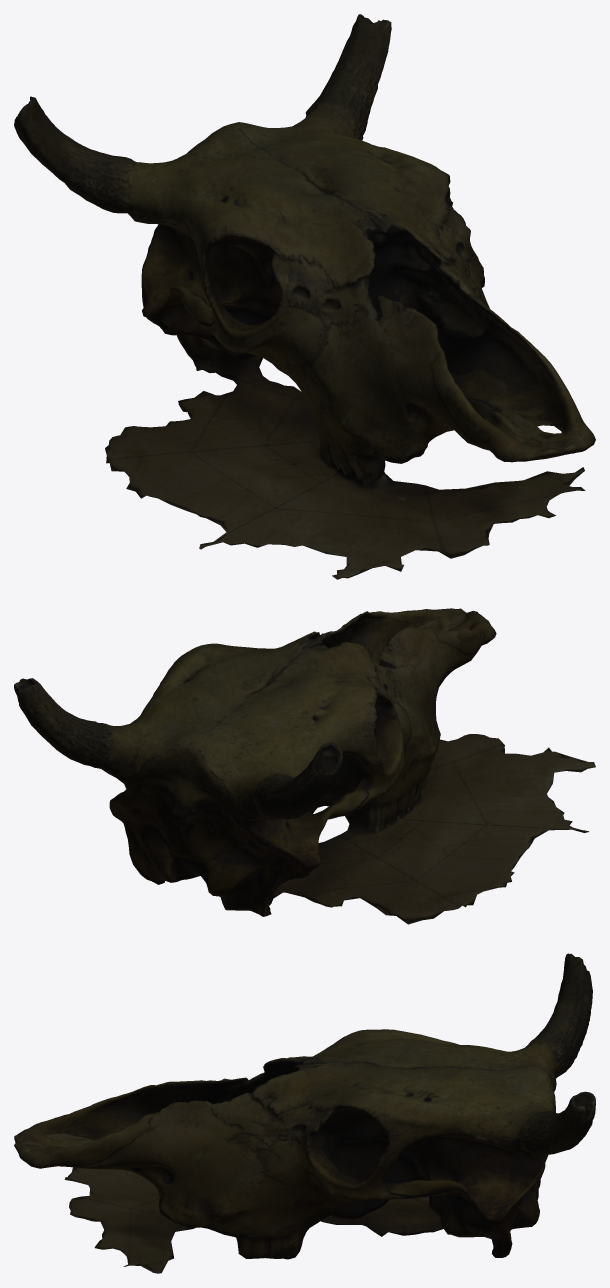
The model's file is model_obj-Sibir.glb.
3 views of the same model, one above another, from view 1: azimuth 30°, elevation 25°; view 2: azimuth 150°, elevation 25°; view 3: azimuth 270°, elevation 25° (orthographic). The views are drawn at different scales.
Visible parts, largest first — view 1: Node1; view 2: Node1; view 3: Node1.
Part boxes in pixels (x1,y1,x2,y2): Node1: [14, 14, 595, 579]; Node1: [14, 608, 595, 924]; Node1: [14, 953, 595, 1273].
Size of the model in its own units: 0.332 by 0.2032 by 0.4824.
Materials: 1 (1 with a texture image).
